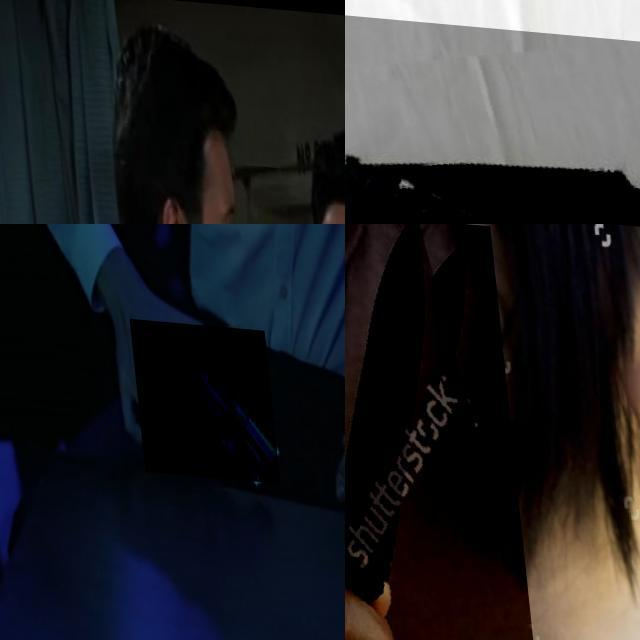-: (345, 224, 539, 640), (345, 2, 640, 224)
gun-knife-thesis - v11 Yolov5 augmented: (126, 315, 274, 478)
